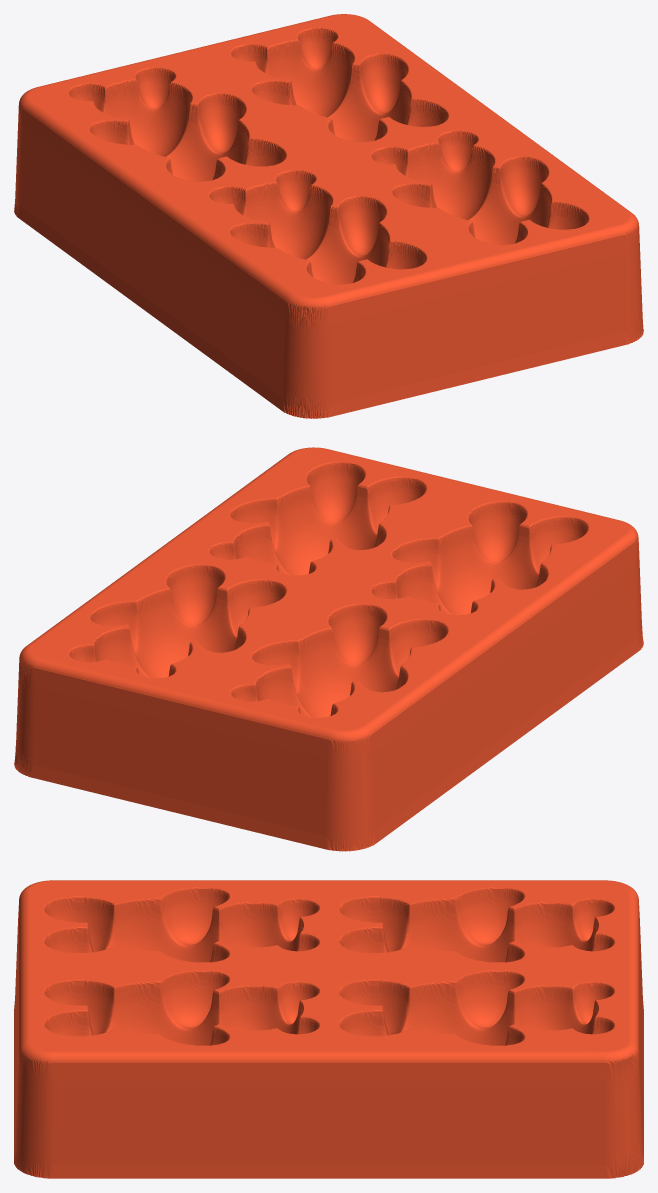
The model's file is mold.glb.
3 views of the same model, one above another, from view 1: azimuth 30°, elevation 25°; view 2: azimuth 150°, elevation 25°; view 3: azimuth 270°, elevation 25° (orthographic). The views are drawn at different scales.
Visible parts, largest first — view 1: geometry_0; view 2: geometry_0; view 3: geometry_0.
Boxes of the visible parts, x1=… form: geometry_0: x1=14, y1=14, x2=643, y2=418; geometry_0: x1=14, y1=447, x2=643, y2=851; geometry_0: x1=14, y1=880, x2=643, y2=1178.
Bounding box in the file's own units: 0.1008 × 0.031 × 0.1466.
